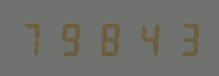eight: (90, 20, 125, 56)
four: (126, 20, 161, 56)
nine: (54, 20, 89, 56)
seven: (18, 20, 53, 56)
three: (162, 20, 197, 56)
